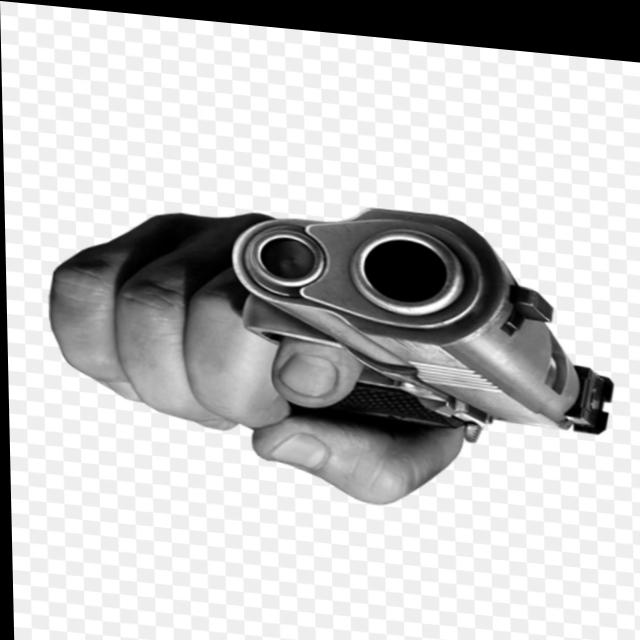handgun: (234, 192, 612, 437)
